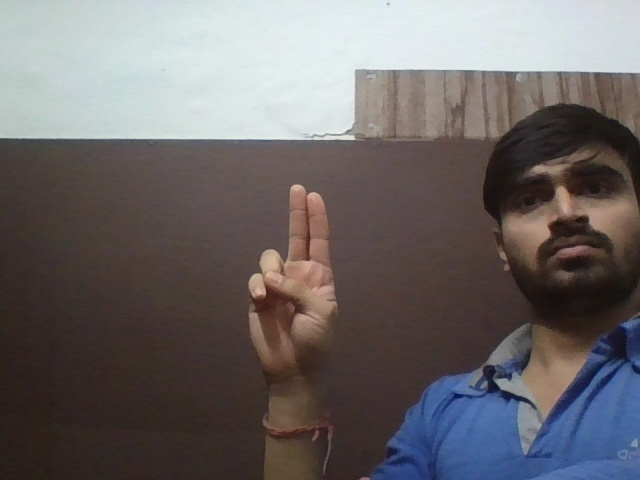U: (241, 180, 349, 400)
